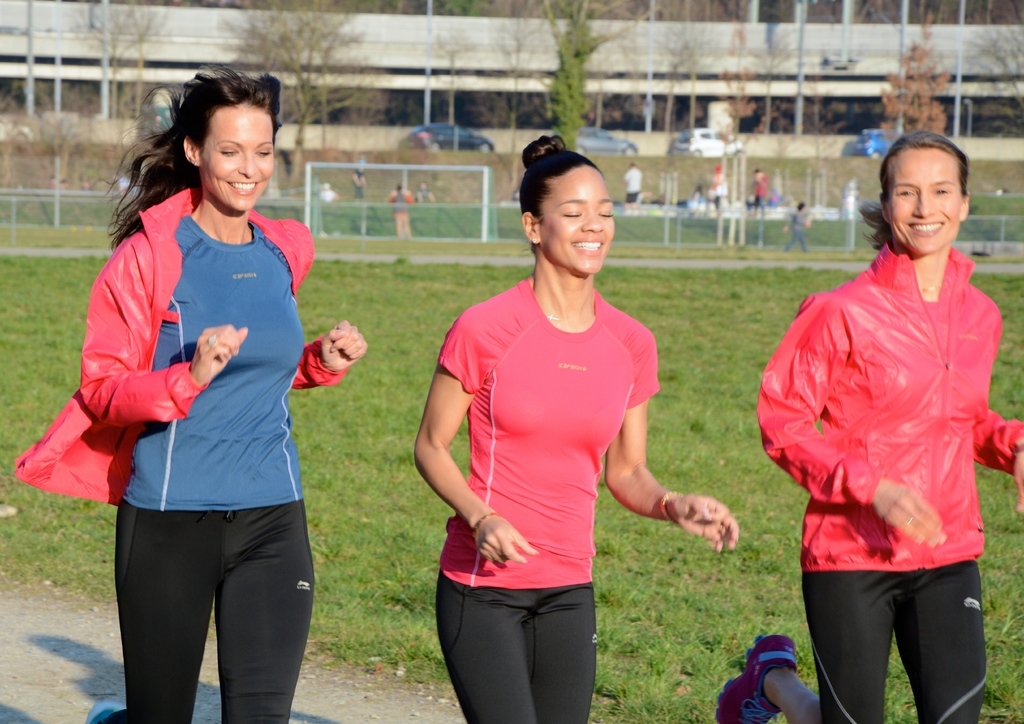Footwear: (737, 638, 816, 720), (84, 697, 125, 723)
